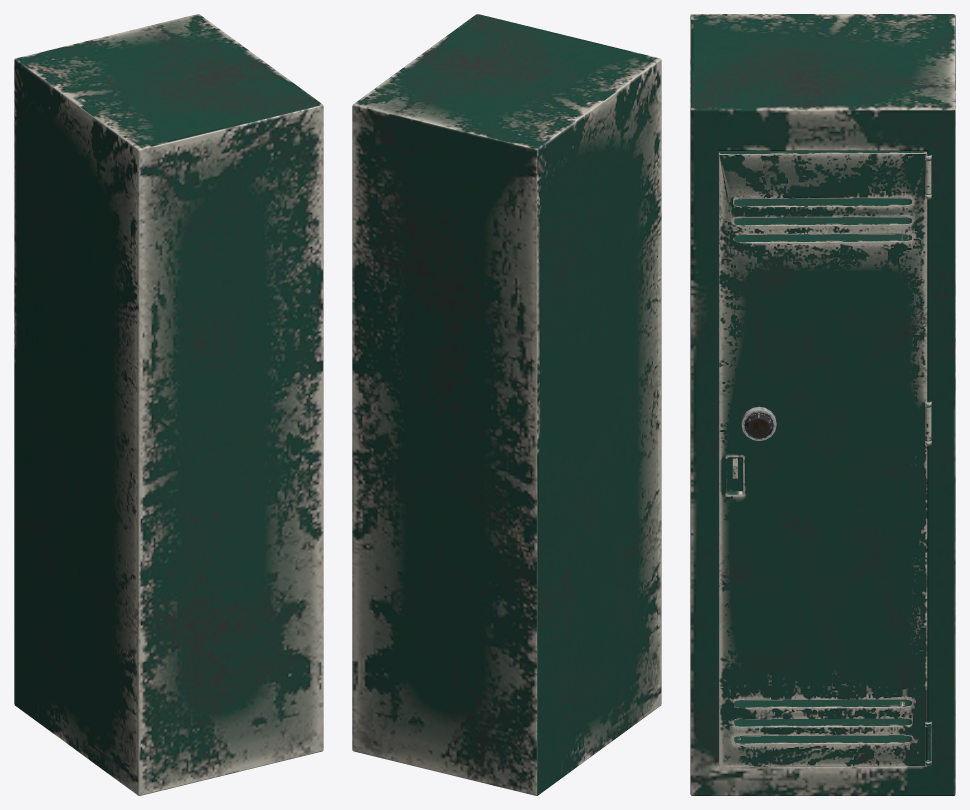
The picture shows the model from 3 angles, left to right: view 1: azimuth 30°, elevation 25°; view 2: azimuth 150°, elevation 25°; view 3: azimuth 270°, elevation 25°; orthographic projection. The views are drawn at different scales.
Visible parts, largest first — view 1: Locker; view 2: Locker; view 3: Door, Locker, Lock.
Boxes of the visible parts, left/top/right/bottom form: Locker: left=14, top=14, right=323, bottom=795; Locker: left=352, top=14, right=661, bottom=795; Door: left=718, top=151, right=927, bottom=767; Locker: left=690, top=14, right=955, bottom=795; Lock: left=741, top=406, right=776, bottom=440.
Bounding box in the file's own units: 64.55 × 200 × 70.
Materials: 3 (3 with a texture image).
